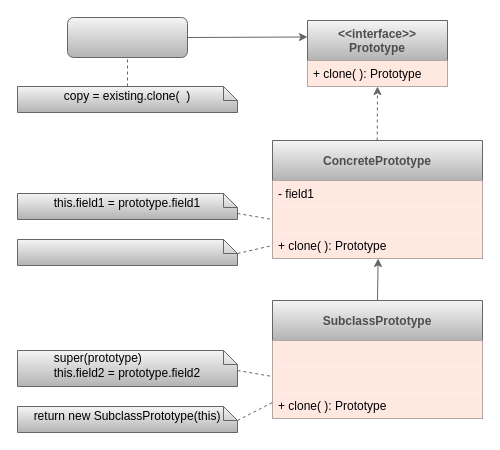
Image size: 500x450. Some labels were removed from this diagram. Here are the shapes that lost their labels. From the top down, the centre of each, then its label:
At (x=127, y=37): "Client".
At (x=377, y=219): "+ ConcretePrototype(prototype)".
At (x=127, y=252): "return new ConcretePrototype(this)".
At (x=377, y=353): "- field2".
At (x=377, y=379): "+ SubclassPrototype(prototype)".
